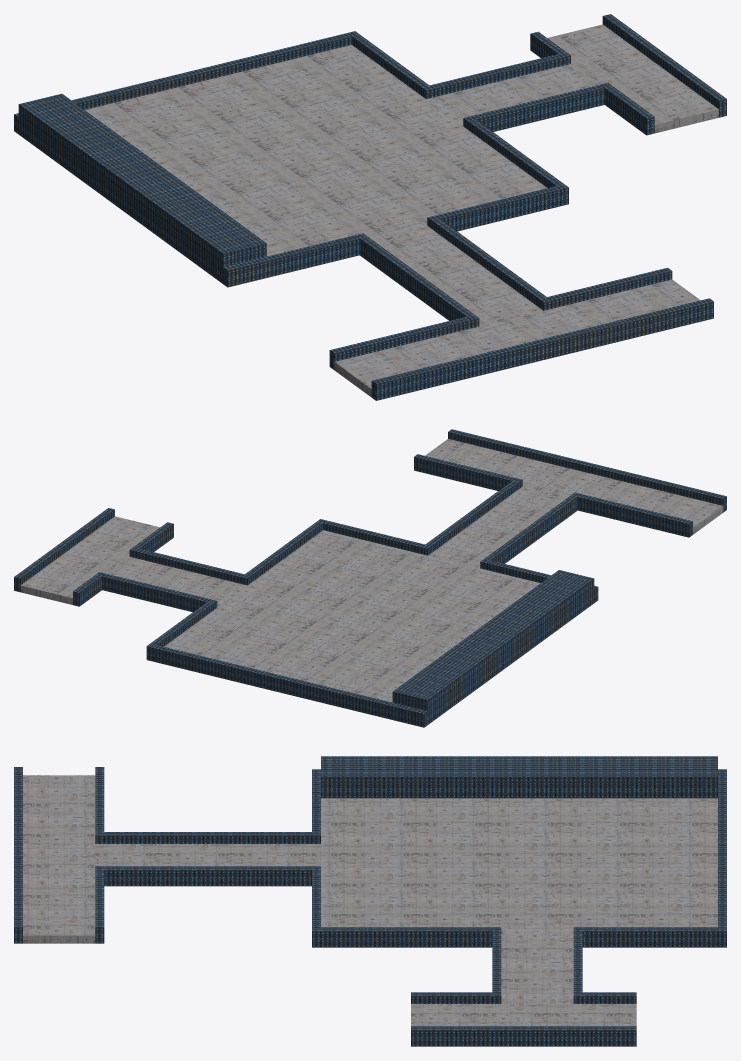
The model's file is DockStation.fbx.
The picture shows the model from 3 angles, top to bottom: view 1: azimuth 30°, elevation 25°; view 2: azimuth 150°, elevation 25°; view 3: azimuth 270°, elevation 25°; orthographic projection. The views are drawn at different scales.
Parts seen in each view (by area): view 1: DockStation; view 2: DockStation; view 3: DockStation.
Boxes of the visible parts, x1,y1,x2,y2 form: DockStation: (14,14,726,400); DockStation: (14,429,726,727); DockStation: (14,756,726,1046).
Size of the model in its own units: 34.5 by 1.8 by 39.5.
2 materials, 2 textured.
